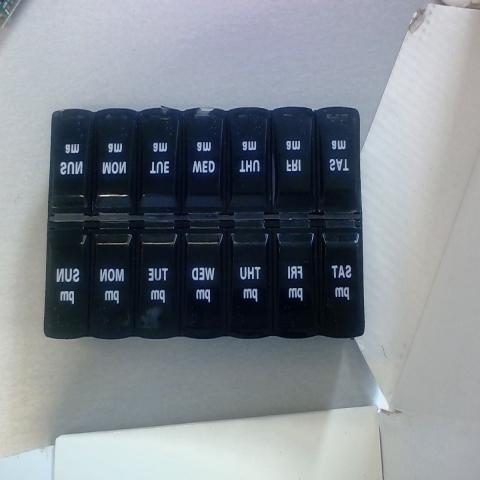FRI-am: (274, 112, 318, 227)
FRI-pm: (274, 227, 316, 336)
MON-am: (93, 113, 137, 229)
MON-pm: (90, 226, 132, 340)
SAT-am: (316, 112, 360, 204)
SAT-pm: (321, 226, 361, 332)
SUN-am: (54, 110, 93, 216)
SUN-pm: (45, 227, 87, 341)
THU-am: (232, 114, 276, 227)
THU-pm: (229, 228, 271, 338)
TUE-am: (137, 222, 181, 337)
TUE-pm: (137, 113, 181, 222)
WED-am: (181, 111, 227, 224)
WED-pm: (184, 230, 224, 336)
